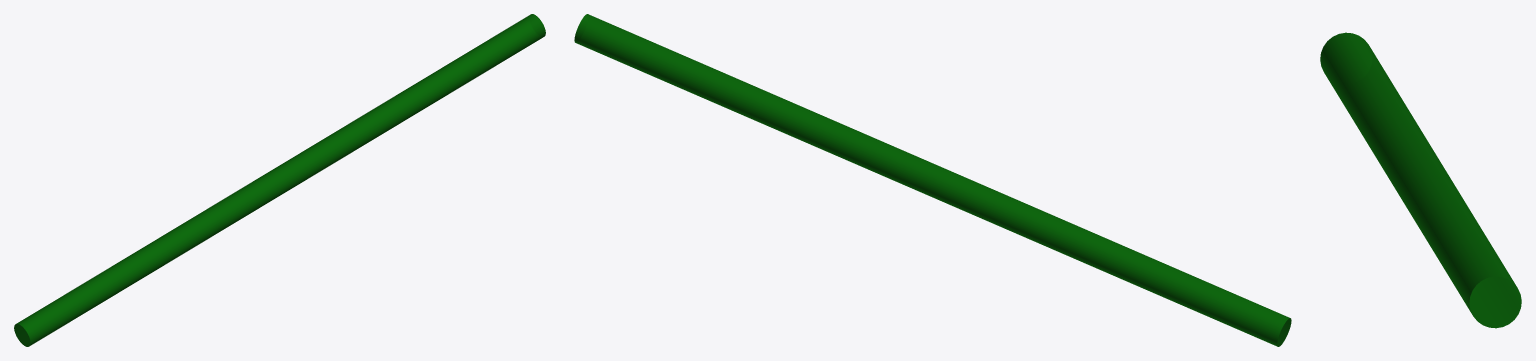
The model's file is Event_421115418_jet_2.fbx.
3 renders of one model, left to right at view 1: azimuth 30°, elevation 25°; view 2: azimuth 150°, elevation 25°; view 3: azimuth 270°, elevation 25°, orthographic. The views are drawn at different scales.
Parts seen in each view (by area): view 1: Model; view 2: Model; view 3: Model.
Boxes of the visible parts, x1,y1,x2,y2 form: Model: (14,14,545,346); Model: (574,14,1291,346); Model: (1320,32,1521,328).
Bounding box in the file's own units: 0.9792 × 0.2862 × 0.153.
